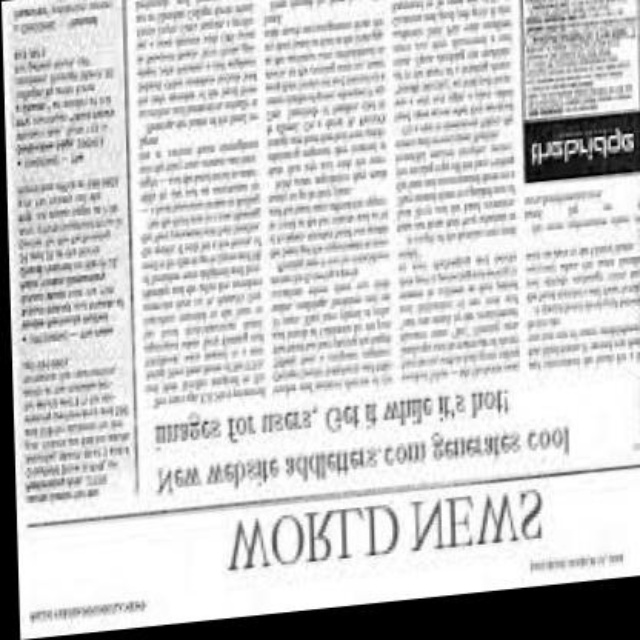trash: (3, 0, 638, 637)
